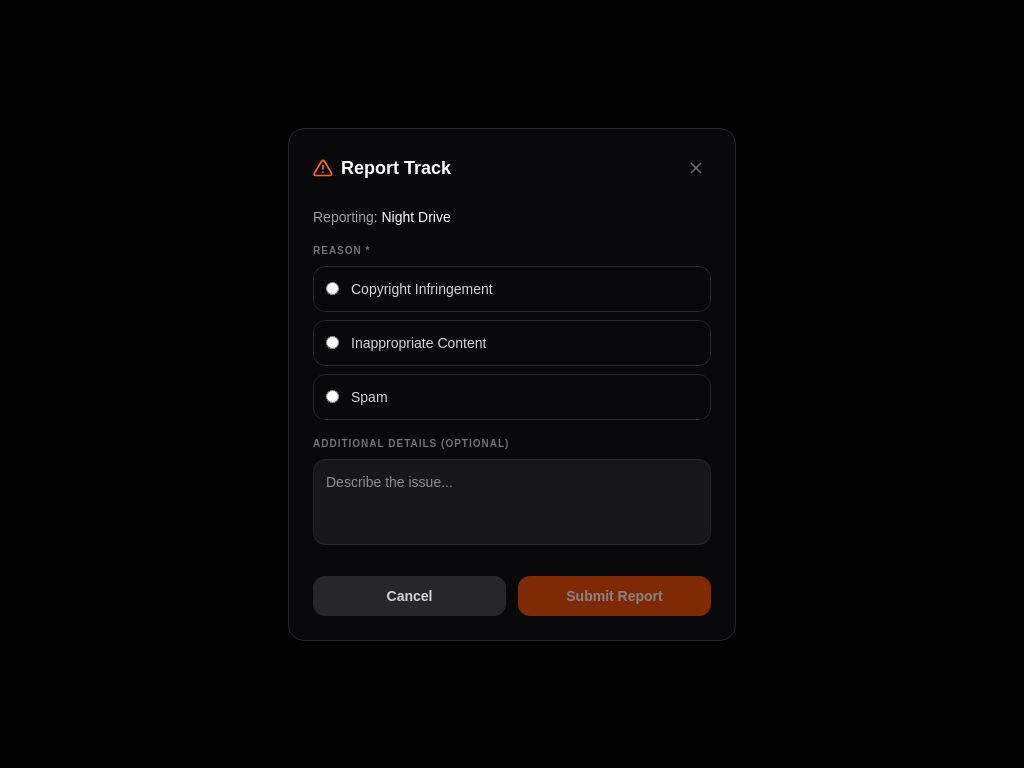
Scenario: ReportModal › validation › error clears between retries — second submit attempt after error shows new result
The width and height of the screenshot is (1024, 768).
Click the radio button showing "SPAM". click: (332, 396)
box: x1=326 y1=390 x2=339 y2=403
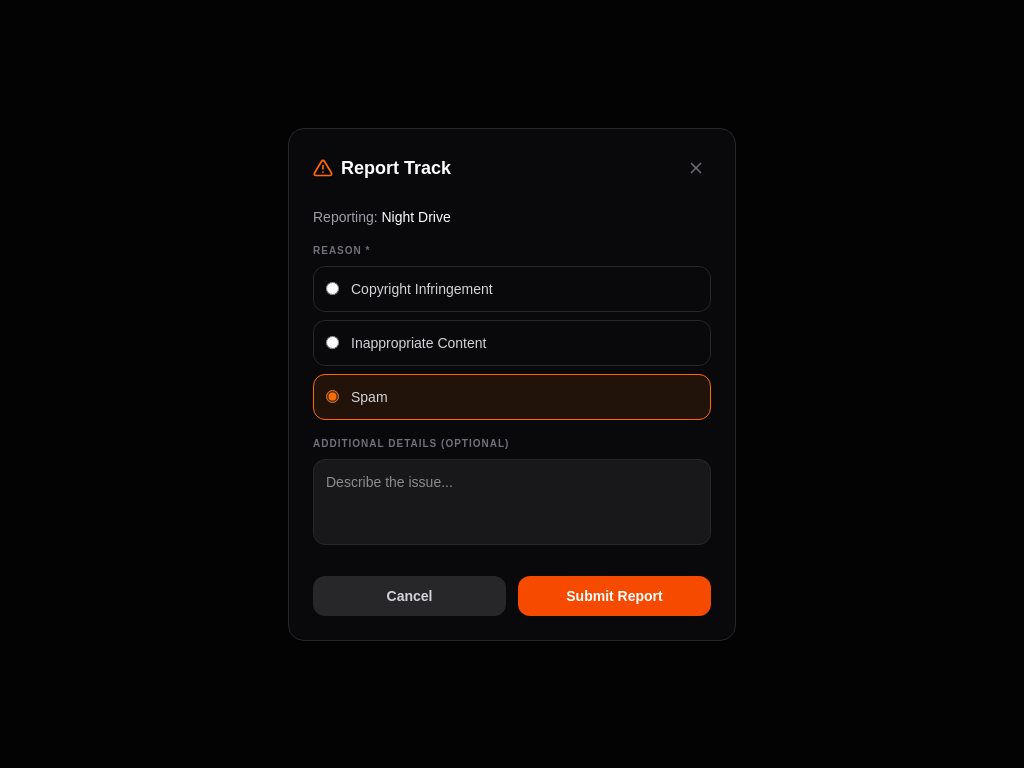
Click the button "Submit Report". click: (614, 596)
box: x1=518 y1=576 x2=711 y2=616
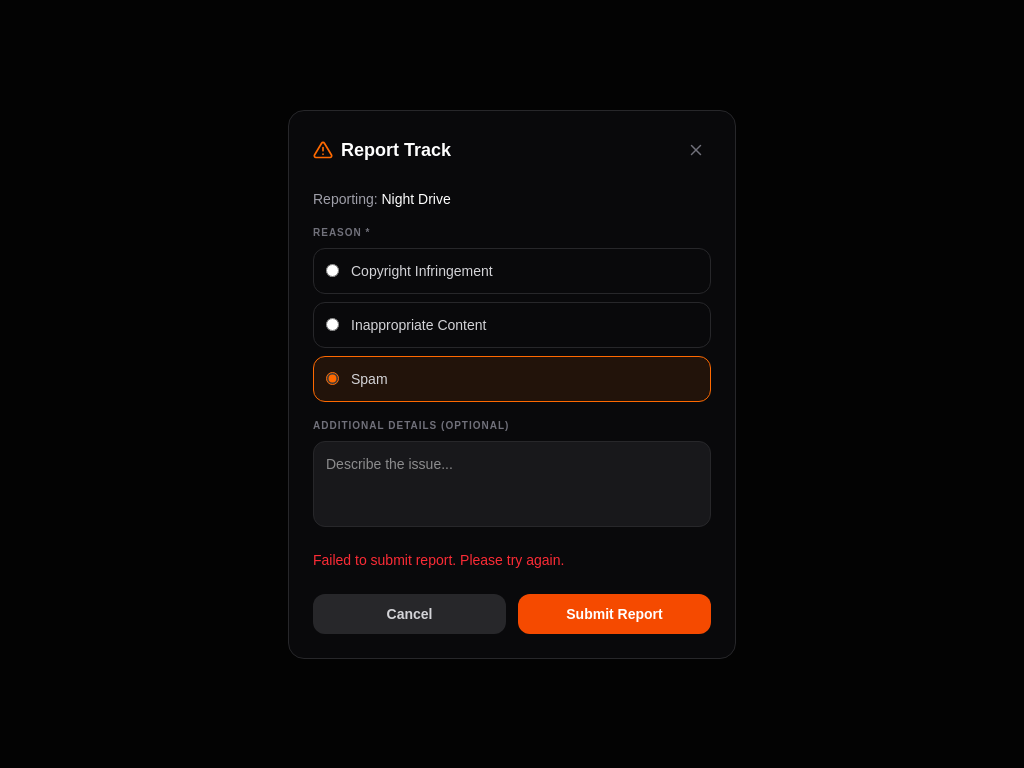
Expected: the text "Failed to submit report. Please try again." is shown, x1=313 y1=552 x2=564 y2=568
Retry — error should clear and success shown
Click the button "Submit Report". click: (614, 614)
box: x1=518 y1=594 x2=711 y2=634
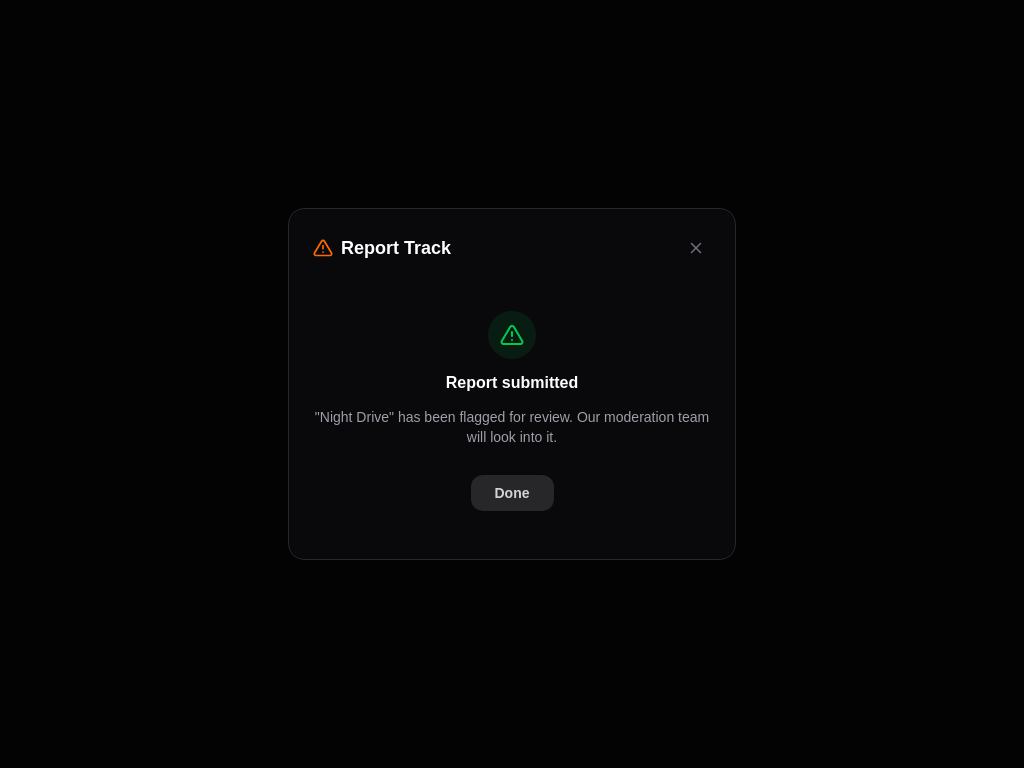
Expected: the text "Report submitted" is shown, x1=446 y1=374 x2=578 y2=391
